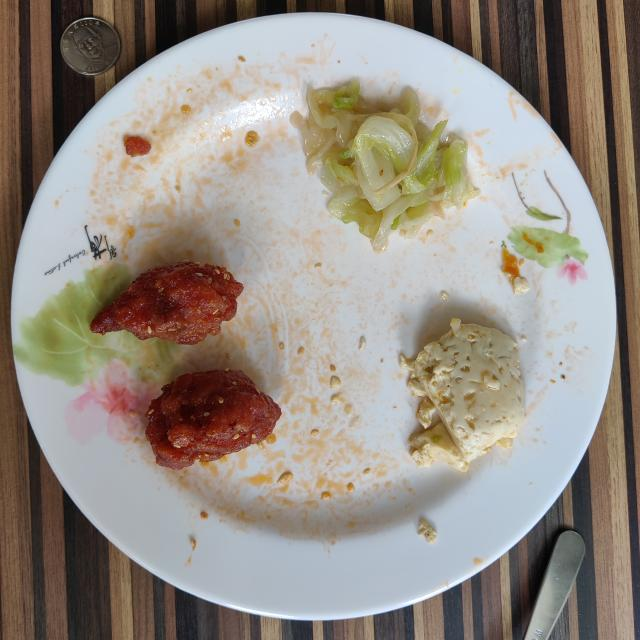cabbage: (290, 80, 478, 252)
coin: (60, 18, 120, 75)
